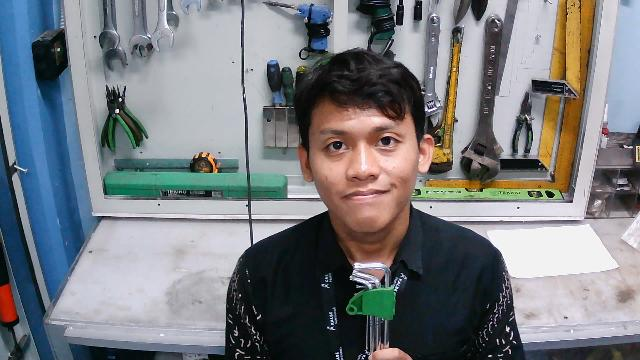kunci_l_bintang: (346, 255, 401, 360)
